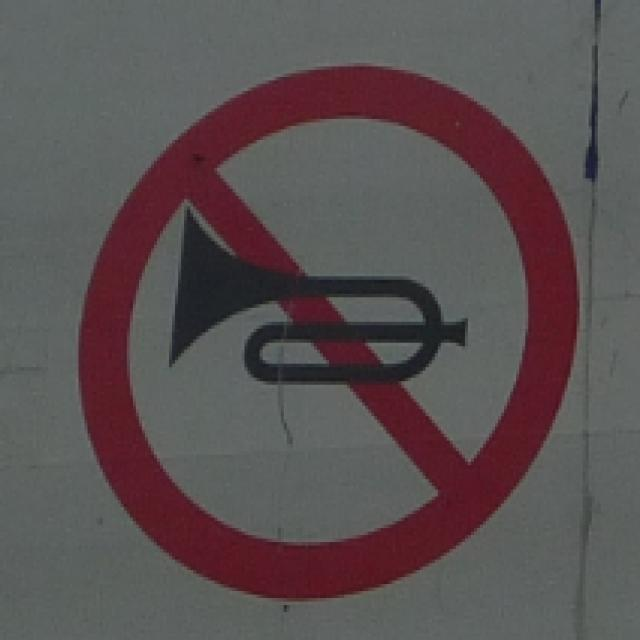No Horn: (78, 45, 576, 586)
